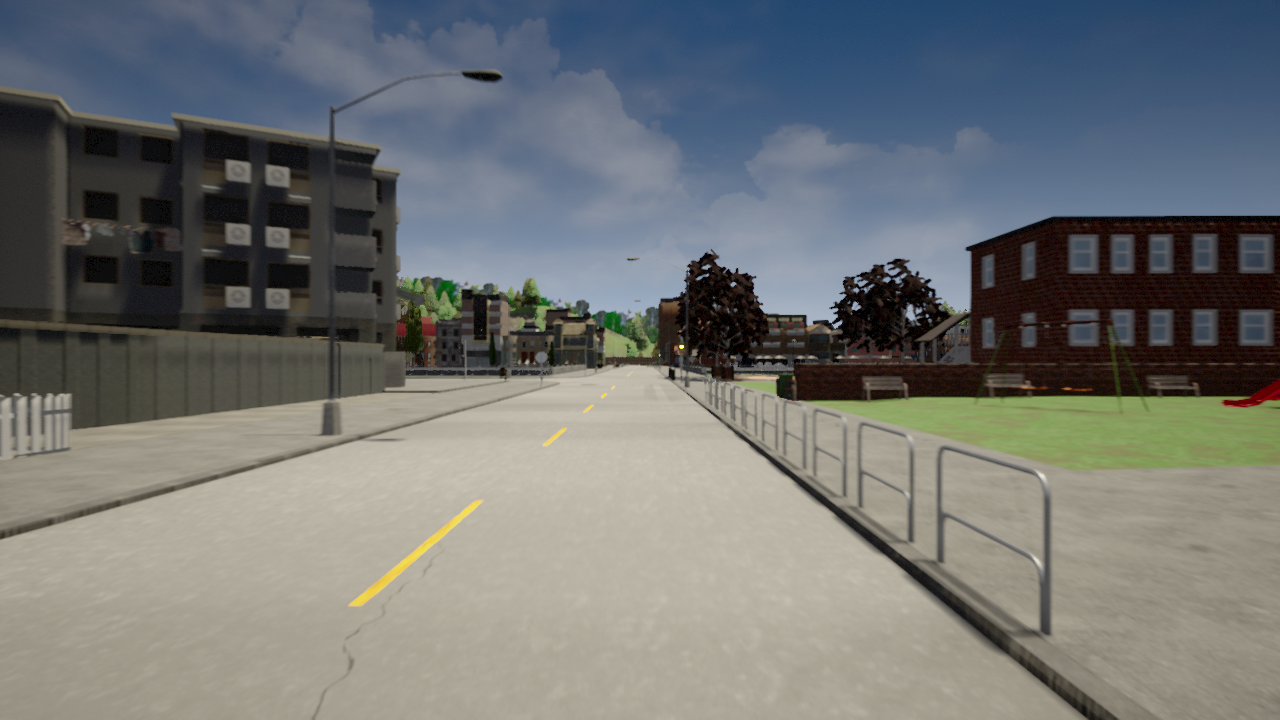yellow: (679, 340, 684, 355)
